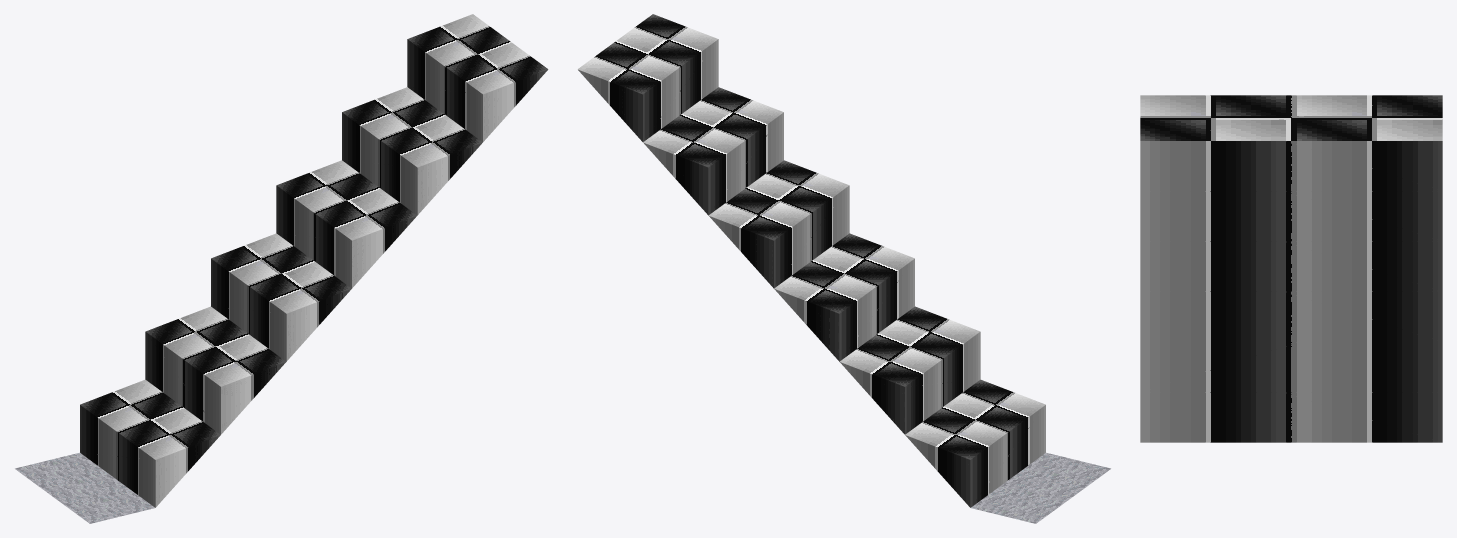
File: km3_dan1.obj
3 views of the same model, side by side, from view 1: azimuth 30°, elevation 25°; view 2: azimuth 150°, elevation 25°; view 3: azimuth 270°, elevation 25° (orthographic). The views are drawn at different scales.
Visible parts, largest first — view 1: world_root; view 2: world_root; view 3: world_root.
Part boxes in pixels (x1,y1,x2,y2): world_root: [15, 14, 548, 523]; world_root: [577, 14, 1110, 523]; world_root: [1140, 95, 1442, 442].
Bounding box in the file's own units: 262 × 188 × 75.
